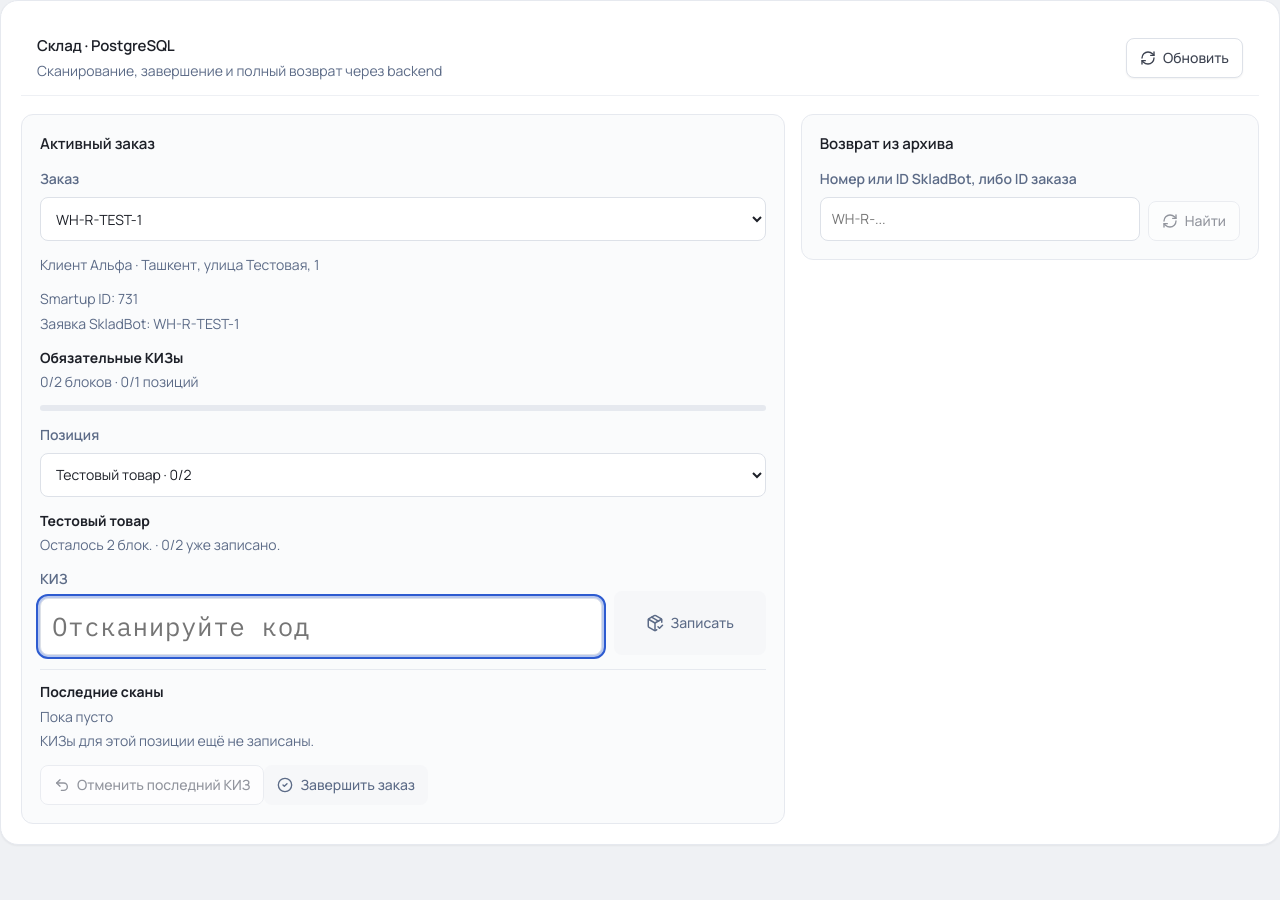
Scenario: DB-only warehouse operations › keeps the scanned code and focus when backend save fails
Step 1. Type "0104006396053947217TEST01XXXXXXXXXX" into the field labelled "КИЗ" → (321, 627), box [40,598,602,656]
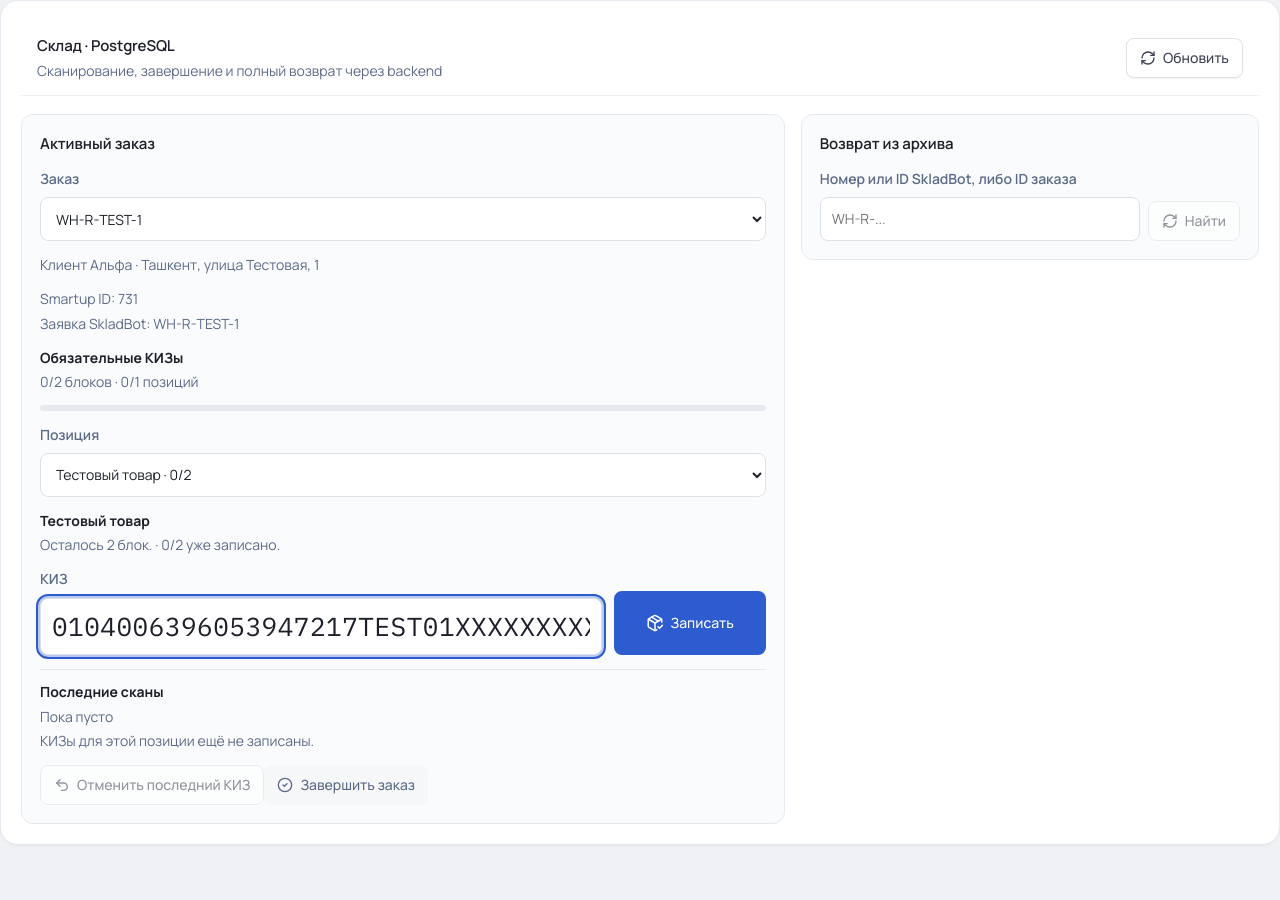
Step 2. Click the button "Записать" → (690, 624), box [614,592,766,656]
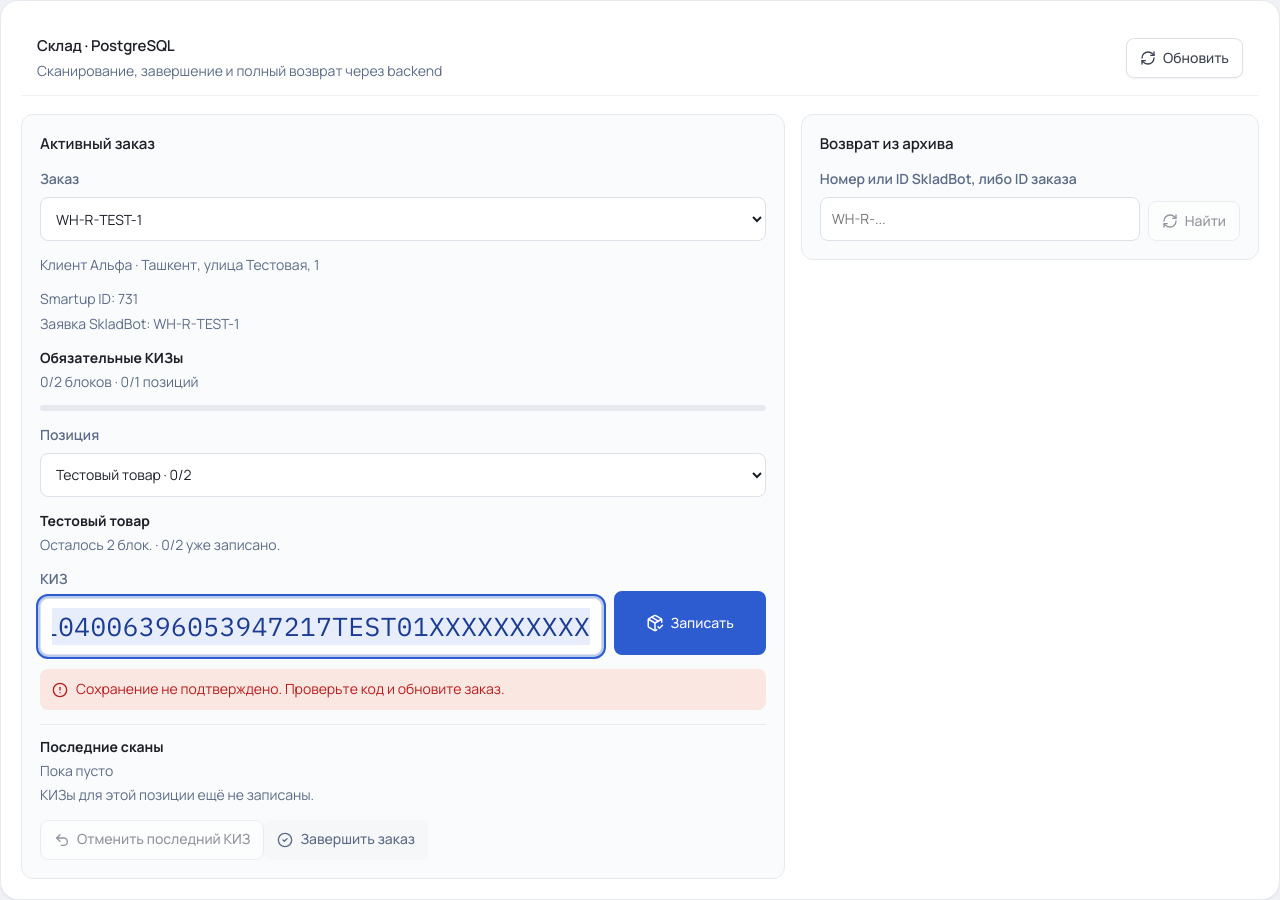
Check: the text "Сохранение не подтверждено. Проверьте код и обновите заказ." is shown, box [40,670,766,710]
